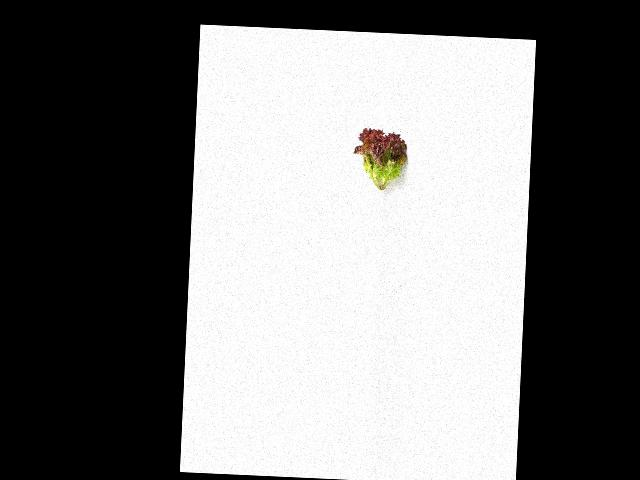lettuce: (353, 124, 409, 199)
